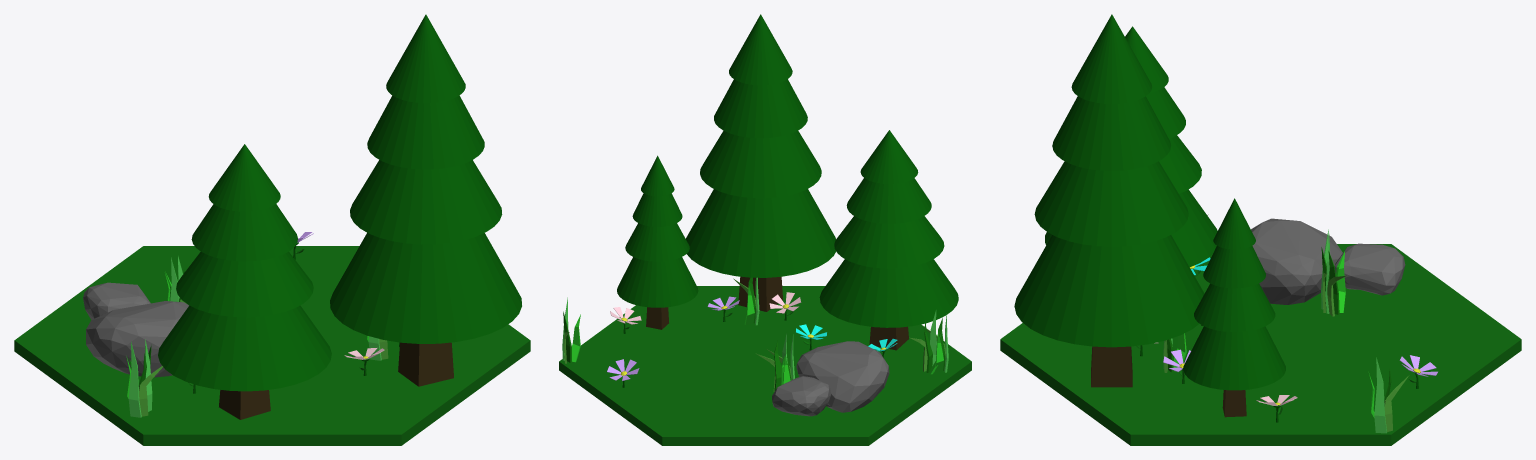
The model's file is Hex_Forest.fbx.
The picture shows the model from 3 angles, left to right: view 1: azimuth 30°, elevation 25°; view 2: azimuth 150°, elevation 25°; view 3: azimuth 270°, elevation 25°; orthographic projection. The views are drawn at different scales.
Parts seen in each view (by area): view 1: Cylinder.005; view 2: Cylinder.005; view 3: Cylinder.005.
Part boxes in pixels (x1,y1,x2,y2): Cylinder.005: (14, 14, 530, 445); Cylinder.005: (559, 14, 971, 445); Cylinder.005: (1000, 14, 1521, 445).
Bounding box in the file's own units: 483 × 451 × 558.
